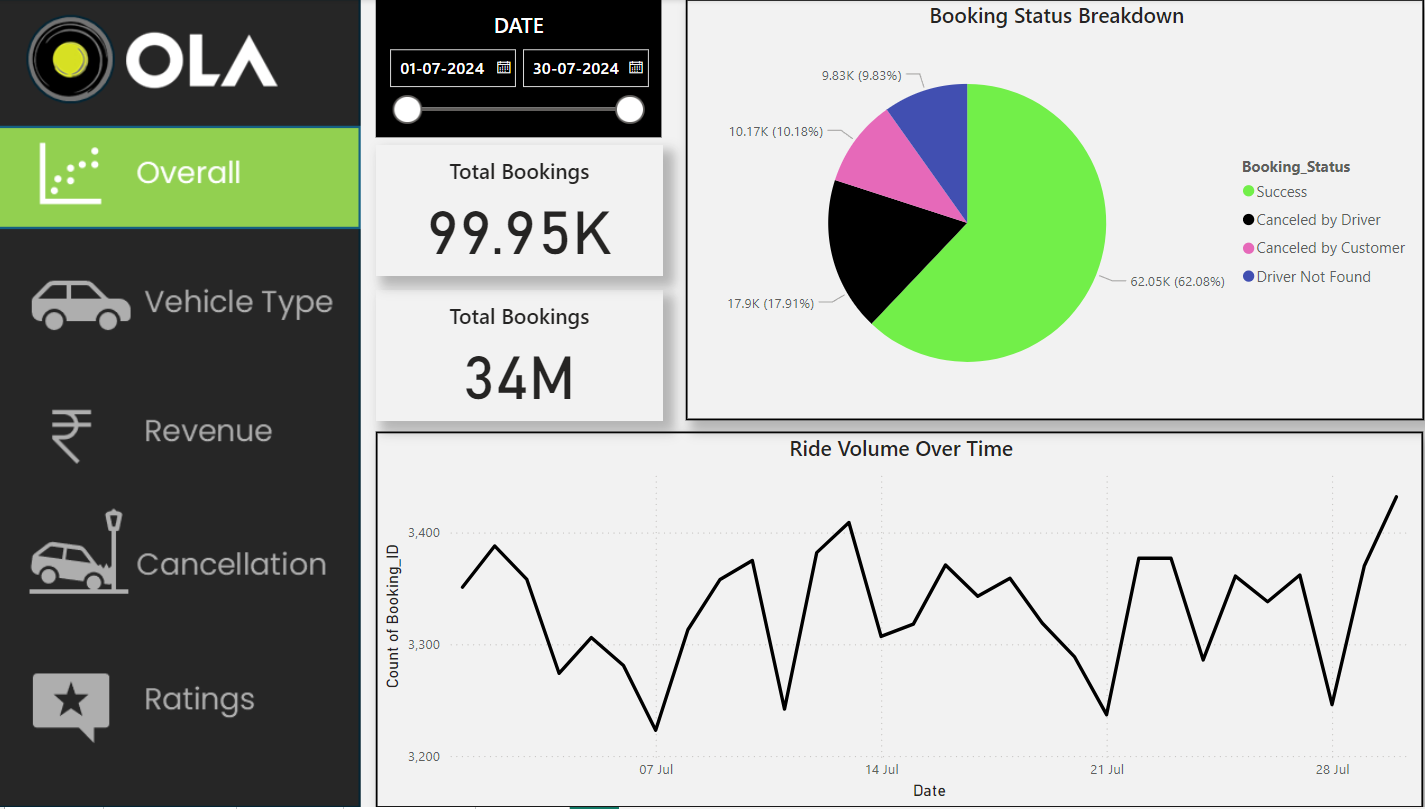

Layout of this report page (visuals, bound fields, positions):
{"tool":"powerbi","page":{"name":"Overall","canvas":[1280,720],"ordinal":0},"visuals":[{"type":"actionButton","box":[0,220.8,324.5,95.3],"z":0},{"type":"actionButton","box":[0,336.6,324.5,95.3],"z":1000},{"type":"actionButton","box":[0,451.2,324.5,95.3],"z":2000},{"type":"actionButton","box":[1.2,580.3,324.5,95.3],"z":3000},{"type":"actionButton","box":[0,103.8,324.5,95.3],"z":4000},{"type":"lineChart","title":"Ride Volume Over Time","fields":{"Y":["CountNonNull(July.Booking_ID)"],"Category":["July.Date"]},"box":[337.8,384.9,932.6,335.4],"z":5000},{"type":"pieChart","title":"Booking Status Breakdown","fields":{"Category":["July.Booking_Status"],"Y":["CountNonNull(July.Booking_Status)"]},"box":[612.9,0,657.5,375.2],"z":6000},{"type":"slicer","title":"DATE","fields":{"Values":["July.Date"]},"box":[337.8,0,254.6,123.1],"z":7000},{"type":"card","title":"Total Bookings","fields":{"Values":["CountNonNull(July.Customer_ID)"]},"box":[337.8,130.3,255.8,115.8],"z":8000},{"type":"card","title":"Total Bookings","fields":{"Values":["Sum(July.Booking_Value)"]},"box":[337.8,259.4,255.8,115.8],"z":9000}]}

Visuals, with their boxes in screenshot pixels (x1, y1, x2, y2), scaled from the page's 1280x720 canvas onto the 1425x809 screenshot:
actionButton: <box>0,248,361,355</box>
actionButton: <box>0,378,361,485</box>
actionButton: <box>0,507,361,614</box>
actionButton: <box>1,652,363,759</box>
actionButton: <box>0,117,361,224</box>
"Ride Volume Over Time" lineChart: <box>376,432,1414,808</box>
"Booking Status Breakdown" pieChart: <box>682,0,1414,422</box>
"DATE" slicer: <box>376,0,660,138</box>
"Total Bookings" card: <box>376,146,661,277</box>
"Total Bookings" card: <box>376,291,661,422</box>
